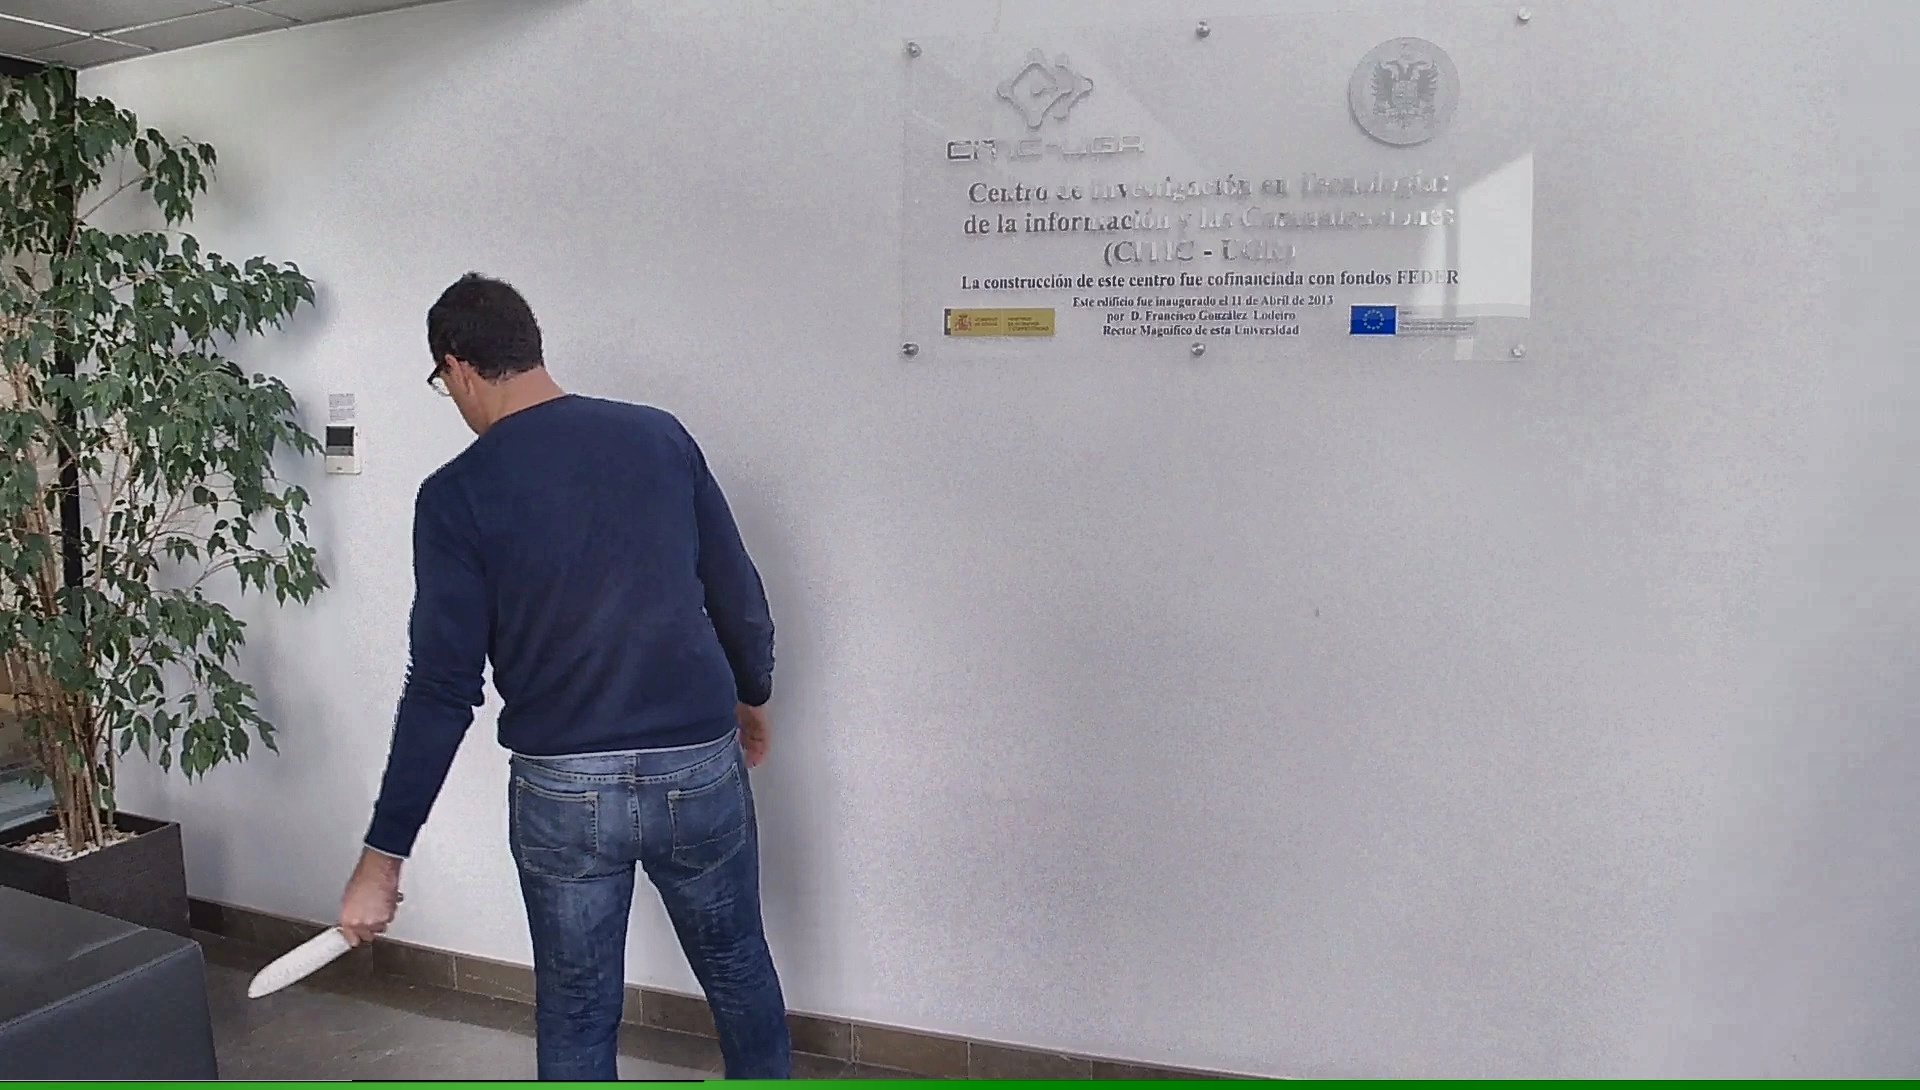knife: (241, 887, 414, 1010)
